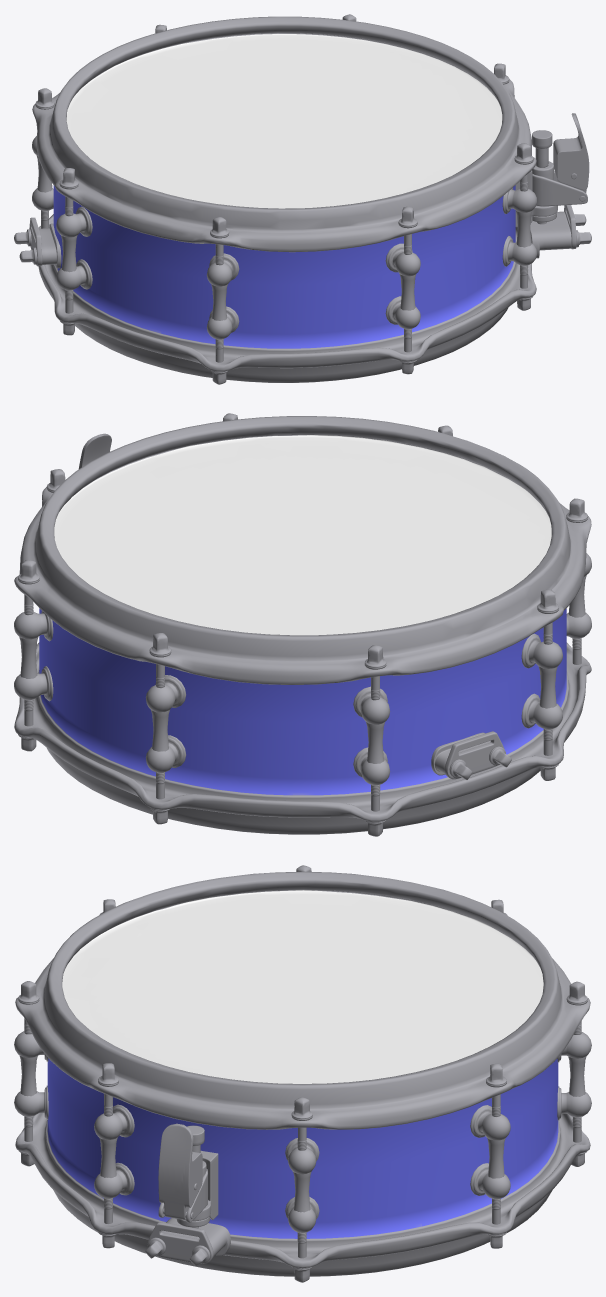
The model's file is snare2.fbx.
3 views of the same model, one above another, from view 1: azimuth 30°, elevation 25°; view 2: azimuth 150°, elevation 25°; view 3: azimuth 270°, elevation 25° (orthographic). The views are drawn at different scales.
Visible parts, largest first — view 1: 17307_Snare_drum_V1; view 2: 17307_Snare_drum_V1; view 3: 17307_Snare_drum_V1.
Boxes of the visible parts, x1,y1,x2,y2 form: 17307_Snare_drum_V1: (14,14,591,384); 17307_Snare_drum_V1: (14,413,591,836); 17307_Snare_drum_V1: (14,865,591,1282).
Bounding box in the file's own units: 209 × 71.97 × 197.
Materials: 1 (1 with a texture image).
